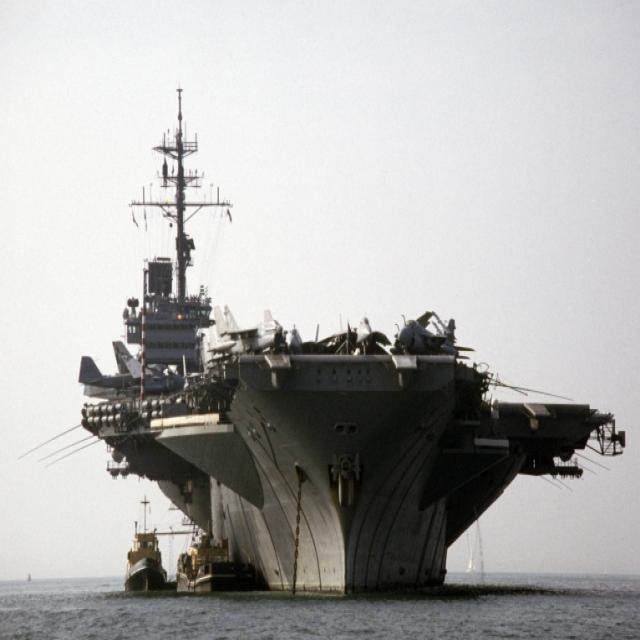Portanaves: (80, 80, 630, 607)
